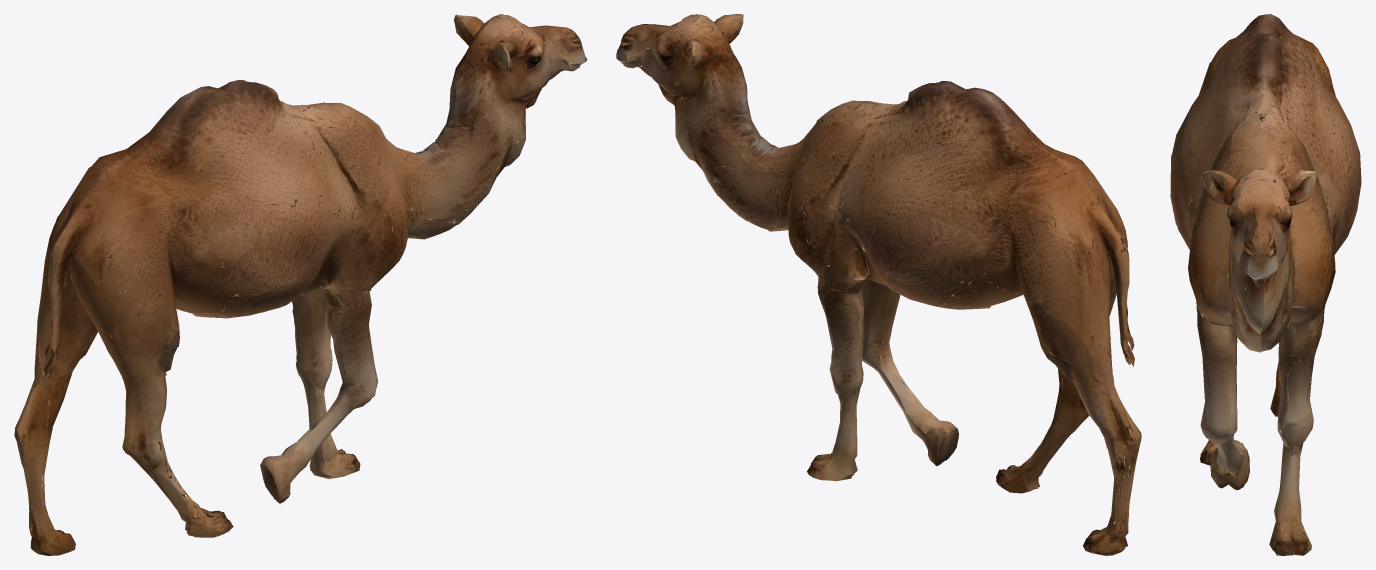
The model's file is obs_camel.glb.
3 renders of one model, left to right at view 1: azimuth 30°, elevation 25°; view 2: azimuth 150°, elevation 25°; view 3: azimuth 270°, elevation 25°, orthographic. The views are drawn at different scales.
Parts seen in each view (by area): view 1: material; view 2: material; view 3: material.
Boxes of the visible parts, x1=… form: material: x1=14, y1=14, x2=587, y2=555; material: x1=616, y1=14, x2=1141, y2=555; material: x1=1170, y1=14, x2=1361, y2=555.
Bounding box in the file's own units: 1 × 0.7538 × 0.2801.
Materials: 1 (1 with a texture image).
